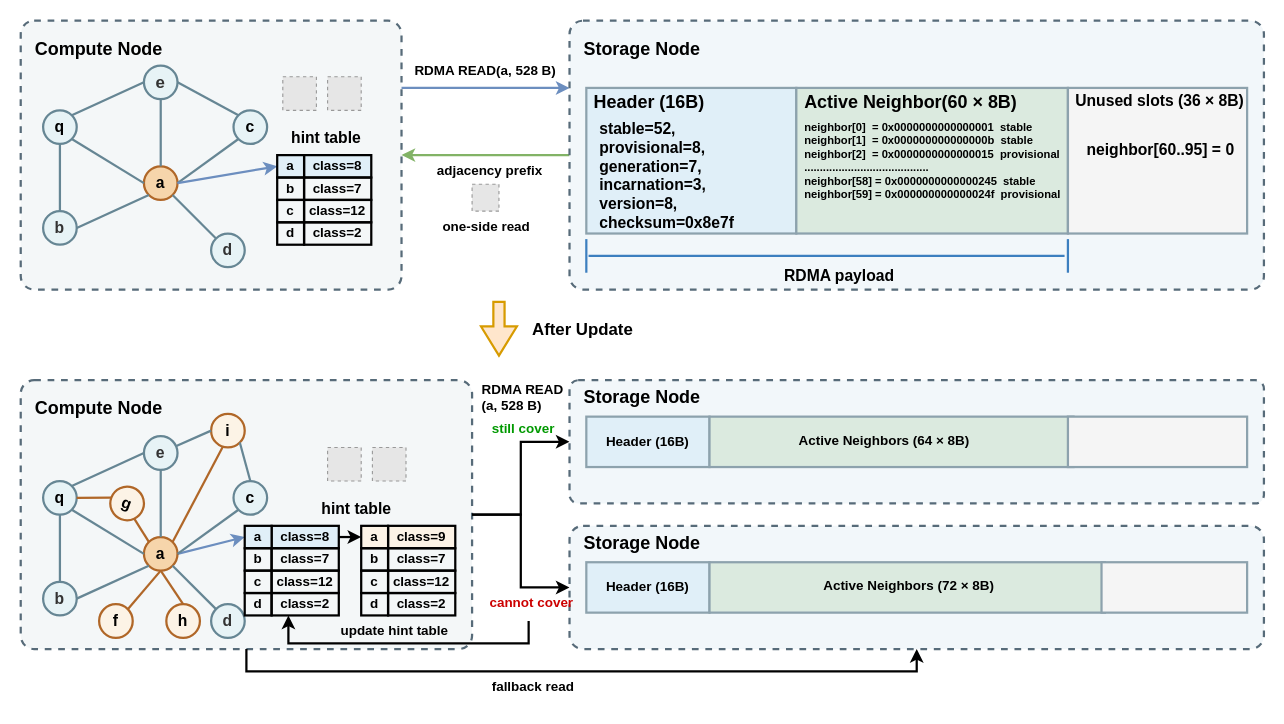
The diagram is 1284 pixels wide and 724 high, and some of its shapes have lost their labels. Grey dashed boxes stand in for pictures. Here are the shapes that lost their labels. From the top down, the centre of each, then its label:
At [1157,441]: "Unused slots (32 × 8B)".
At [1174,587]: "Unused slots (24 × 8B)".
